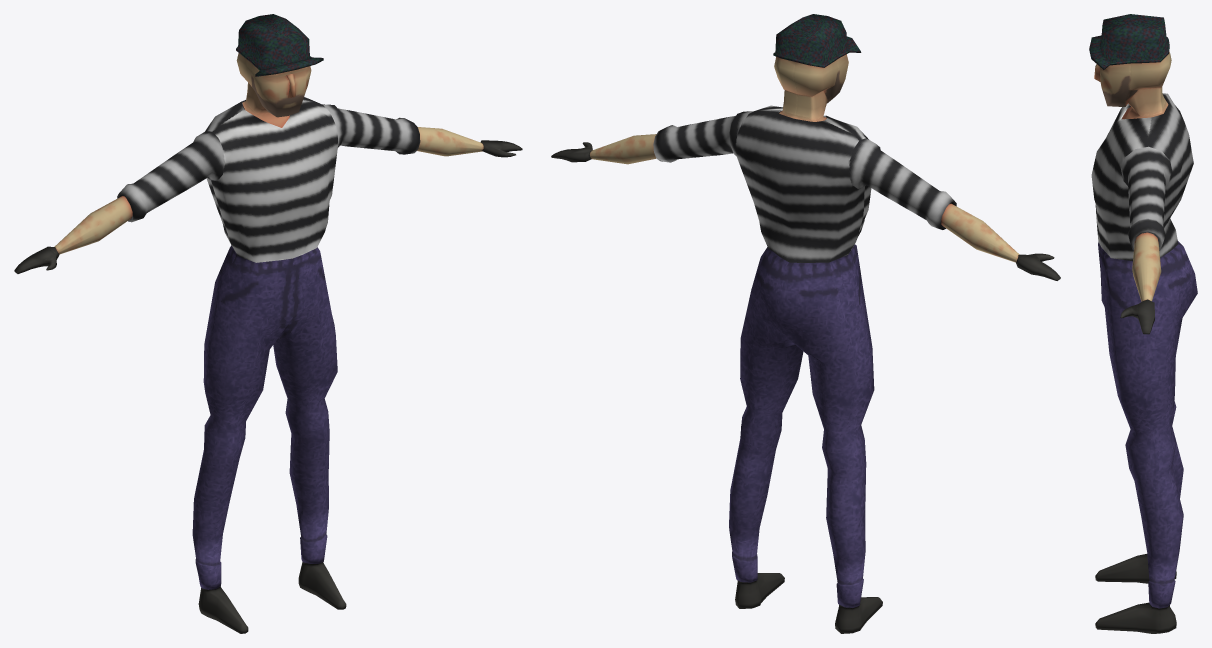
File: Ned_MC.glb
The picture shows the model from 3 angles, left to right: view 1: azimuth 30°, elevation 25°; view 2: azimuth 150°, elevation 25°; view 3: azimuth 270°, elevation 25°; orthographic projection.
Parts seen in each view (by area): view 1: SM_Ned_MC.001; view 2: SM_Ned_MC.001; view 3: SM_Ned_MC.001.
Part boxes in pixels (x1=…): SM_Ned_MC.001: x1=14, y1=14, x2=522, y2=633; SM_Ned_MC.001: x1=551, y1=14, x2=1060, y2=633; SM_Ned_MC.001: x1=1089, y1=14, x2=1197, y2=633.
Bounding box in the file's own units: 1.69 × 1.87 × 0.3145.
1 material, 1 textured.
